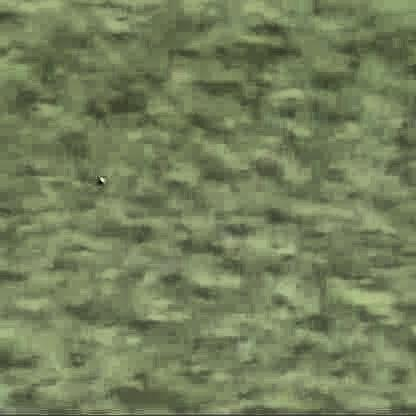golfball: (95, 174, 102, 181)
